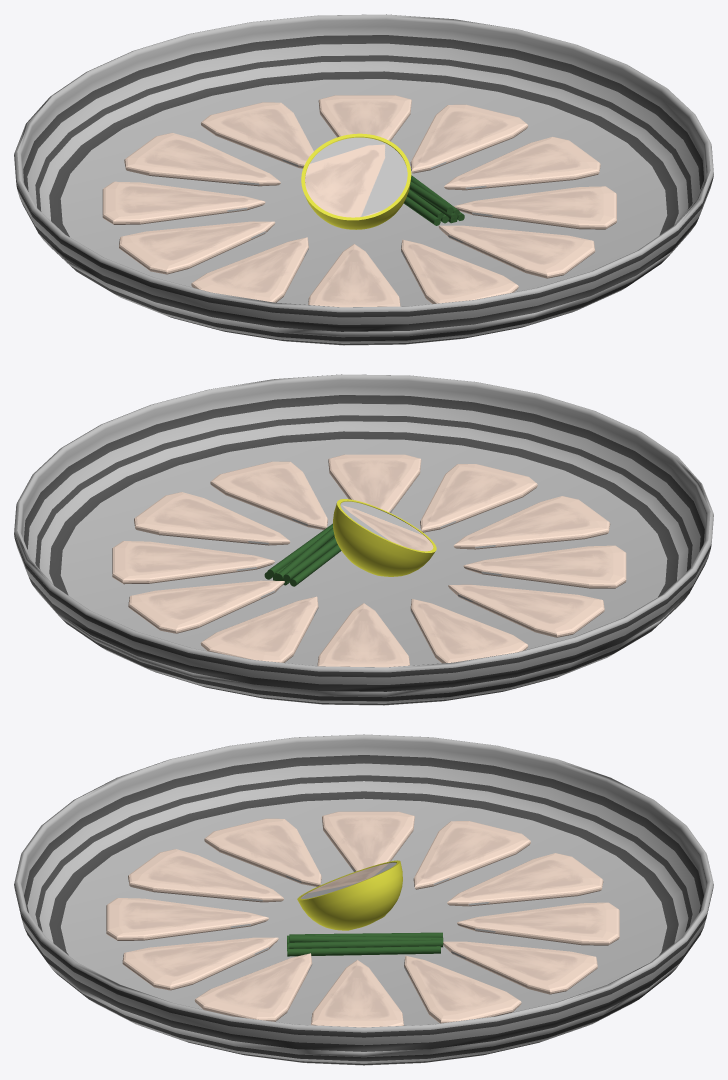
Rendered from Fugu Sashimi1.fbx.
3 views of the same model, one above another, from view 1: azimuth 30°, elevation 25°; view 2: azimuth 150°, elevation 25°; view 3: azimuth 270°, elevation 25° (orthographic).
Parts seen in each view (by area): view 1: Cylinder, Cylinder.009, Cube.007, Cube.009, Cube.010, Cube.006, Cube.004, Cube.008, Cube.003, Cube.001, Cube.011, Cube.005 (+2 smaller); view 2: Cylinder, Cylinder.009, Cube.005, Cube.003, Cube.002, Cube.006, Cube.004, Cube.012, Cube.009, Cube.011, Cube.001, Cube.007 (+3 smaller); view 3: Cylinder, Cylinder.009, Cube.001, Cube.011, Cube.010, Cube.002, Cube.012, Cube.008, Cube.005, Cube.007, Cube.009, Cube.003 (+6 smaller).
Part boxes in pixels (x1,y1,x2,y2): Cylinder: (14, 14, 713, 345); Cylinder.009: (301, 133, 411, 229); Cube.007: (102, 181, 265, 224); Cube.009: (454, 186, 616, 229); Cube.010: (438, 225, 595, 278); Cube.006: (119, 221, 275, 274); Cube.004: (444, 136, 600, 190); Cube.008: (124, 132, 280, 186); Cube.003: (410, 104, 528, 173); Cube.001: (201, 102, 313, 168); Cube.011: (401, 239, 518, 303); Cube.005: (191, 237, 308, 302); Cylinder: (14, 374, 713, 705); Cylinder.009: (333, 499, 436, 576); Cube.005: (463, 545, 626, 588); Cube.003: (112, 541, 274, 584); Cube.002: (128, 580, 284, 633); Cube.006: (448, 584, 604, 637); Cube.004: (134, 492, 290, 545); Cube.012: (453, 496, 610, 549); Cube.009: (210, 461, 327, 529); Cube.011: (420, 464, 537, 532); Cube.001: (200, 596, 318, 662); Cube.007: (410, 599, 528, 663); Cylinder: (14, 734, 713, 1065); Cylinder.009: (297, 860, 402, 930); Cube.001: (457, 902, 619, 945); Cube.011: (106, 898, 268, 940); Cube.010: (122, 937, 278, 990); Cube.002: (443, 941, 597, 994); Cube.012: (128, 849, 283, 902); Cube.008: (447, 853, 603, 906); Cube.005: (204, 818, 321, 886); Cube.007: (413, 821, 530, 889); Cube.009: (194, 953, 312, 1021); Cube.003: (404, 955, 521, 1023).
Size of the model in its own units: 200 by 23.18 by 200.
6 materials, 2 textured.
